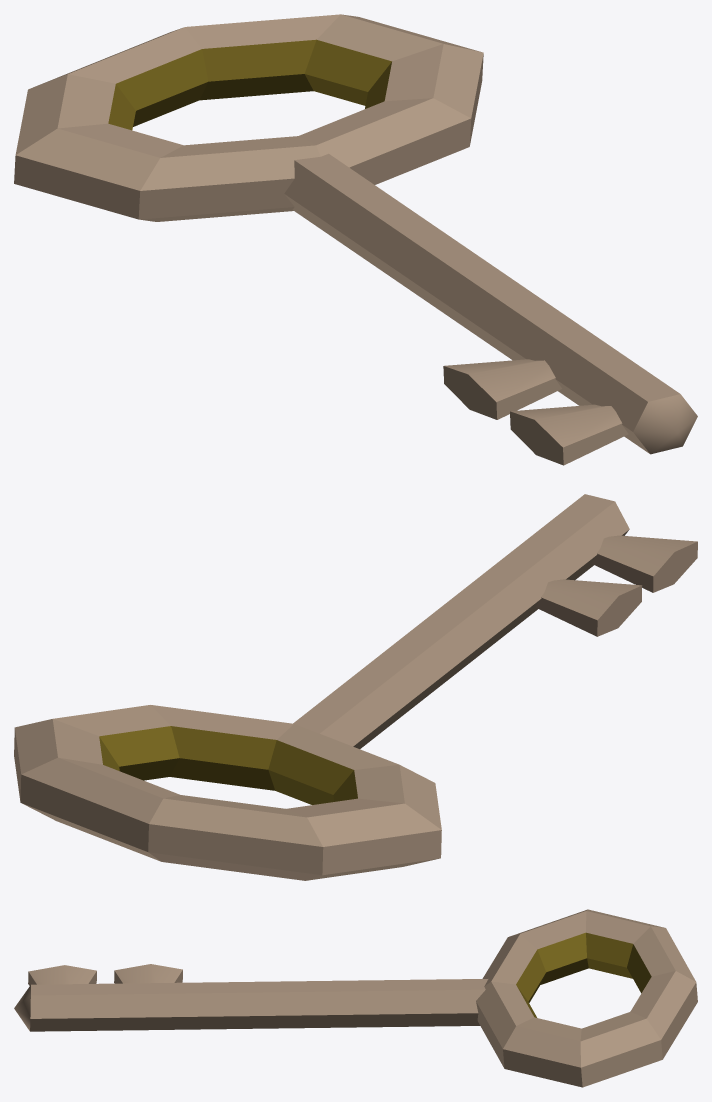
The model's file is llave.fbx.
3 renders of one model, top to bottom at view 1: azimuth 30°, elevation 25°; view 2: azimuth 150°, elevation 25°; view 3: azimuth 270°, elevation 25°, orthographic. The views are drawn at different scales.
Parts seen in each view (by area): view 1: pTorus1; view 2: pTorus1; view 3: pTorus1.
Boxes of the visible parts, bbox=[...] form: pTorus1: bbox=[14, 14, 697, 465]; pTorus1: bbox=[14, 494, 697, 880]; pTorus1: bbox=[14, 909, 697, 1087].
Bounding box in the file's own units: 0.322 × 0.0557 × 0.6048.
